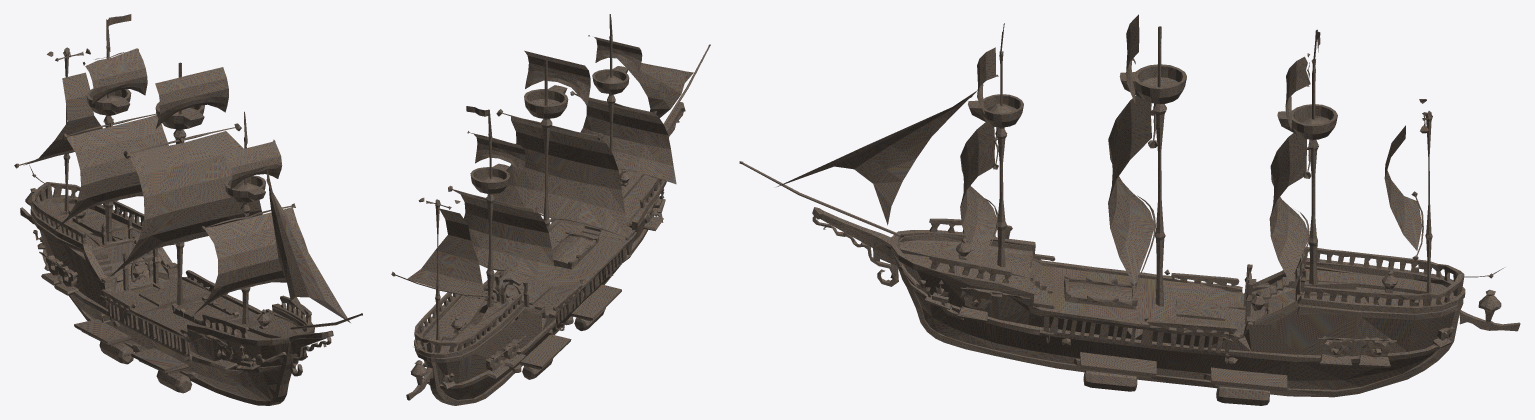
File: ship_tidewrack_sailing_ship_lod1.glb
3 renders of one model, left to right at view 1: azimuth 30°, elevation 25°; view 2: azimuth 150°, elevation 25°; view 3: azimuth 270°, elevation 25°, orthographic. The views are drawn at different scales.
Visible parts, largest first — view 1: geometry_0; view 2: geometry_0; view 3: geometry_0.
Boxes of the visible parts, left/top/right/bottom form: geometry_0: left=14, top=14, right=362, bottom=405; geometry_0: left=391, top=14, right=710, bottom=405; geometry_0: left=739, top=14, right=1520, bottom=405.
Size of the model in its own units: 8.19 by 15.44 by 29.51.
1 material, 1 textured.
